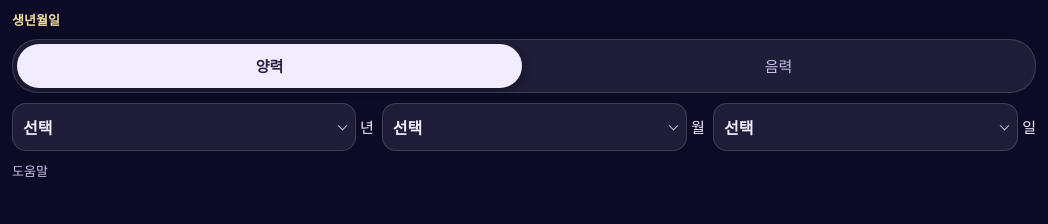
Scenario: BirthFields › says so when a day the new year or month lacks moves to its last day (QA L3: 2월 29일 became 28일 silently)
This screenshot has width=1048, height=224.
Select "2000" in the dropdown named "태어난 연도" at (184, 127), box [12,103,356,151]
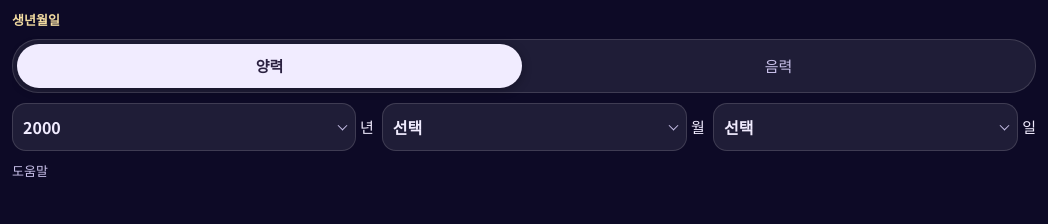
Select "2" in the dropdown named "태어난 월" at (534, 127), box [382,103,687,151]
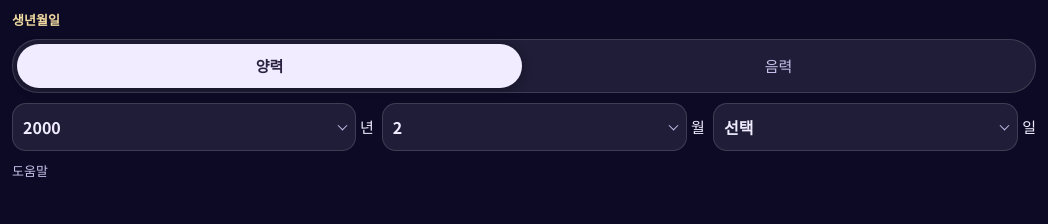
Select "29" in the dropdown named "태어난 일" at (866, 127), box [713,103,1018,151]
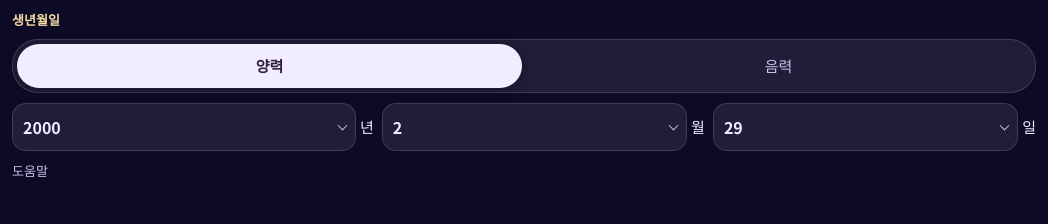
Select "2001" in the dropdown named "태어난 연도" at (184, 127), box [12,103,356,151]
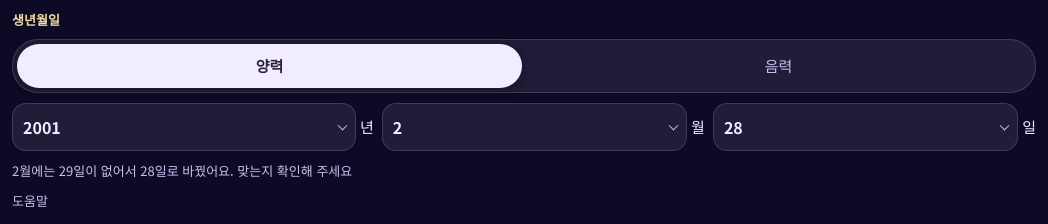
Expected: the message reads "2월에는 29일이 없어서 28일로 바꿨어요. 맞는지 확인해 주세요", [12,161,352,180]
Select "27" in the dropdown named "태어난 일" at (866, 127), box [713,103,1018,151]
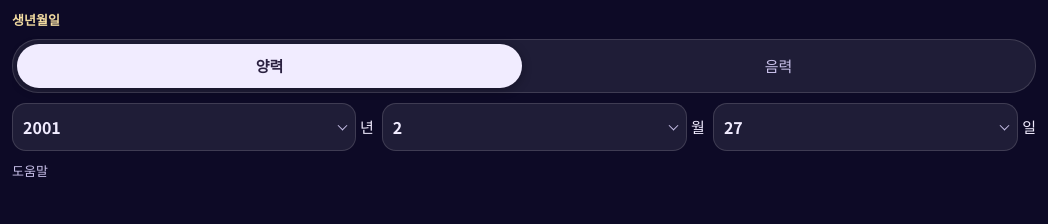
Expected: the message "2월에는 29일이 없어서 28일로 바꿨어요. 맞는지 확인해 주세요" is gone
